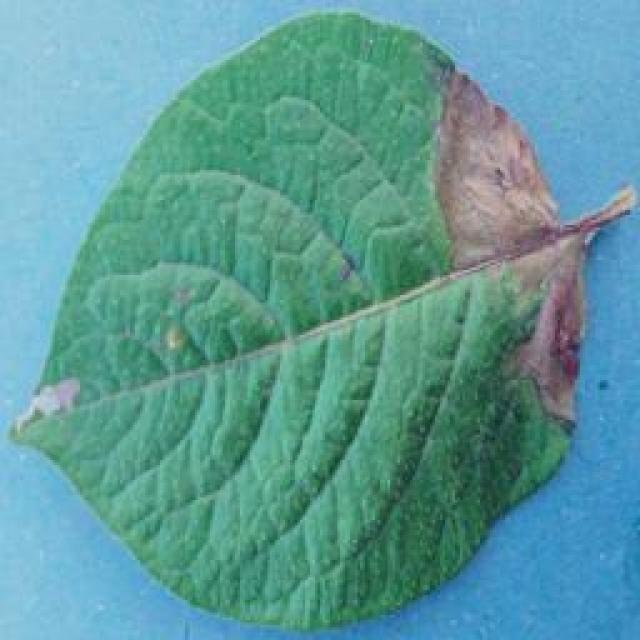Potato_Late_Blight: (8, 6, 600, 626)
